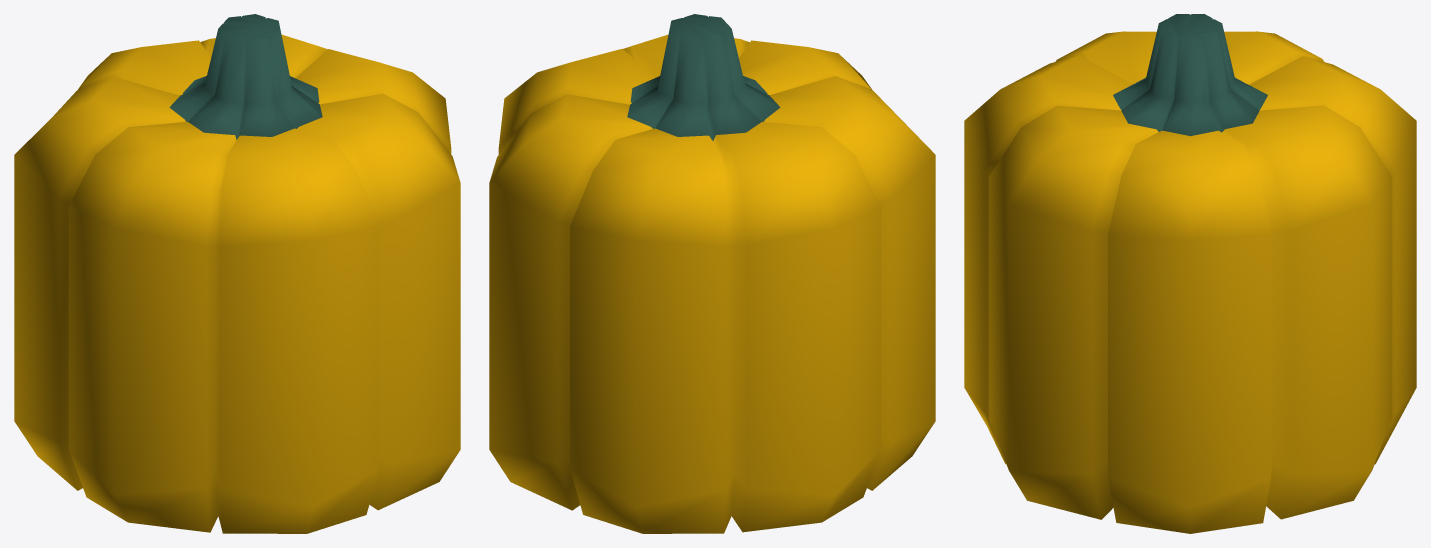
The model's file is pumpkin 0.fbx.
The picture shows the model from 3 angles, left to right: view 1: azimuth 30°, elevation 25°; view 2: azimuth 150°, elevation 25°; view 3: azimuth 270°, elevation 25°; orthographic projection.
Visible parts, largest first — view 1: my_old_tire:PUMKIN; view 2: my_old_tire:PUMKIN; view 3: my_old_tire:PUMKIN.
Boxes of the visible parts, box(x1,y1,x2,y2) form: my_old_tire:PUMKIN: box(14, 14, 460, 533); my_old_tire:PUMKIN: box(489, 14, 935, 533); my_old_tire:PUMKIN: box(964, 14, 1416, 533).
Bounding box in the file's own units: 1.9 × 2.03 × 1.95.
